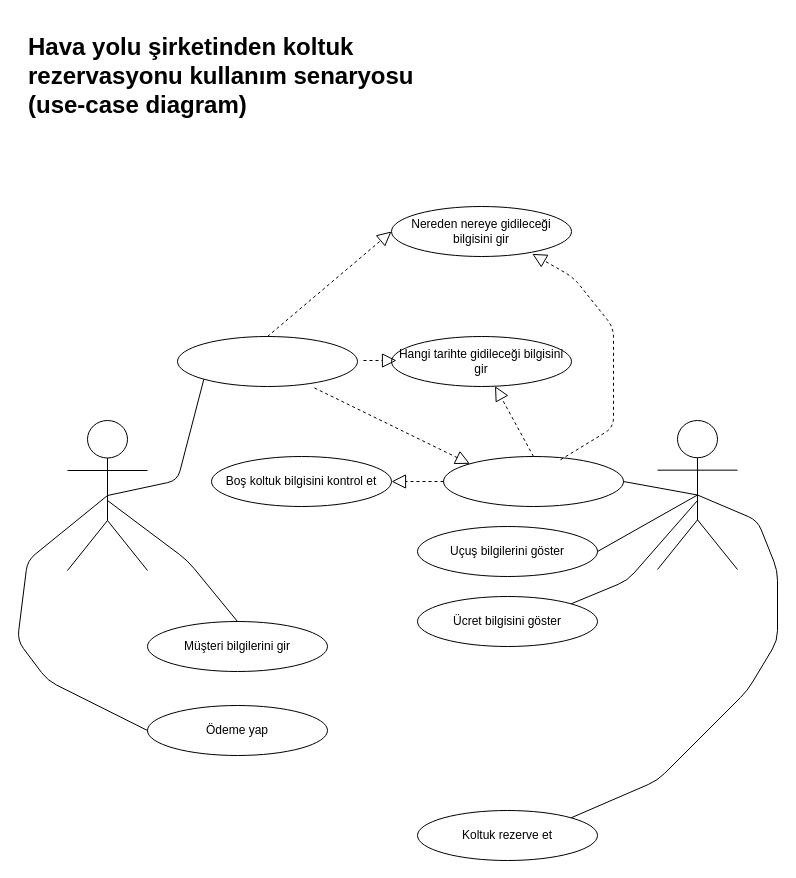
Some shapes in this 796 by 878 pixel diagram are drawn without their labels. The box of each missing label's shape, as (x1, y1, x2, y2) in pixels:
Havayolu Şirketi: (656, 420, 738, 570)
Müşteri: (66, 420, 148, 570)
Uygun uçuş ara: (176, 336, 358, 386)
Uygun uçuşları bul: (442, 456, 624, 506)
